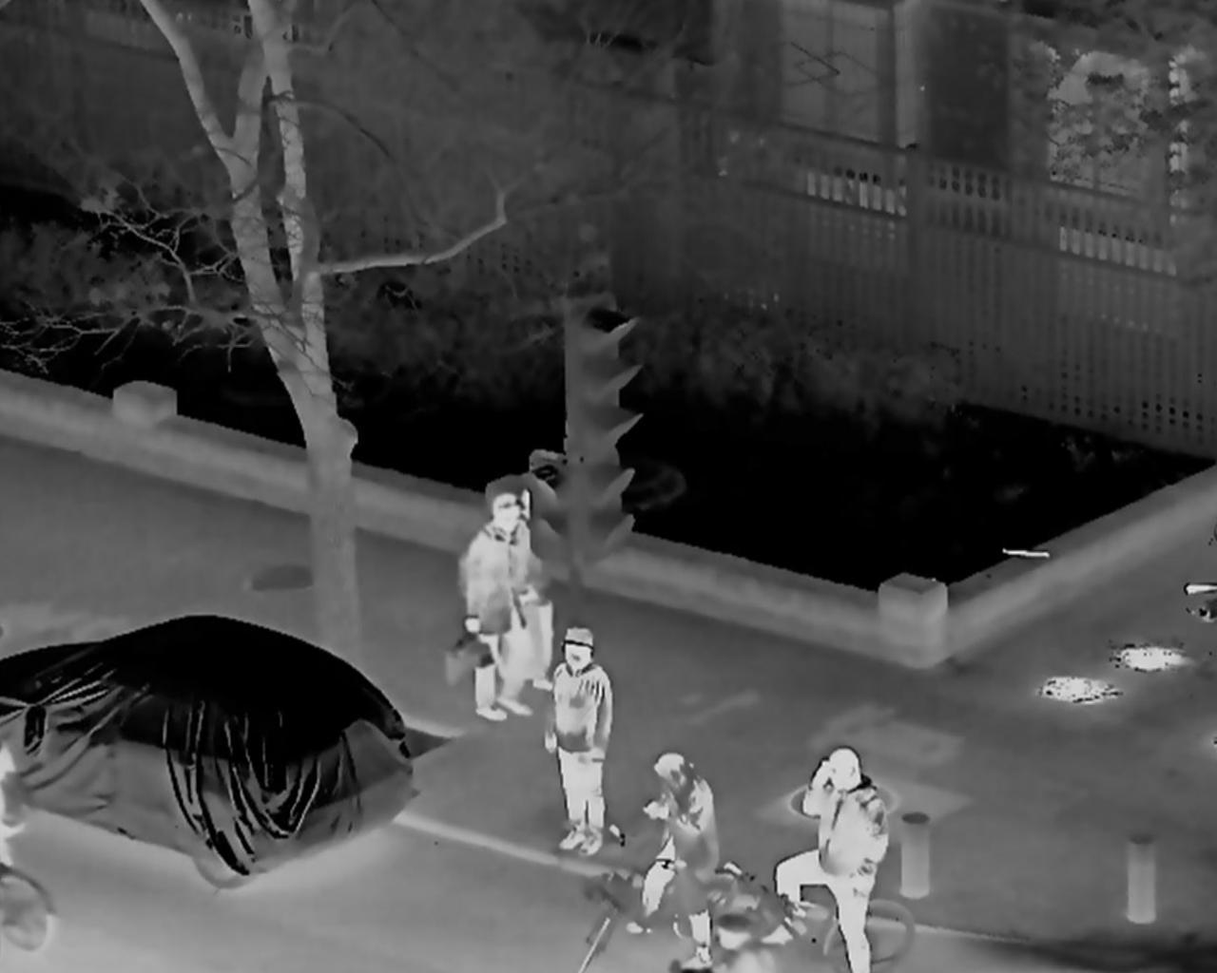person: (763, 745, 890, 969), (629, 753, 727, 971), (542, 624, 615, 852), (456, 500, 529, 720), (494, 485, 566, 689)
